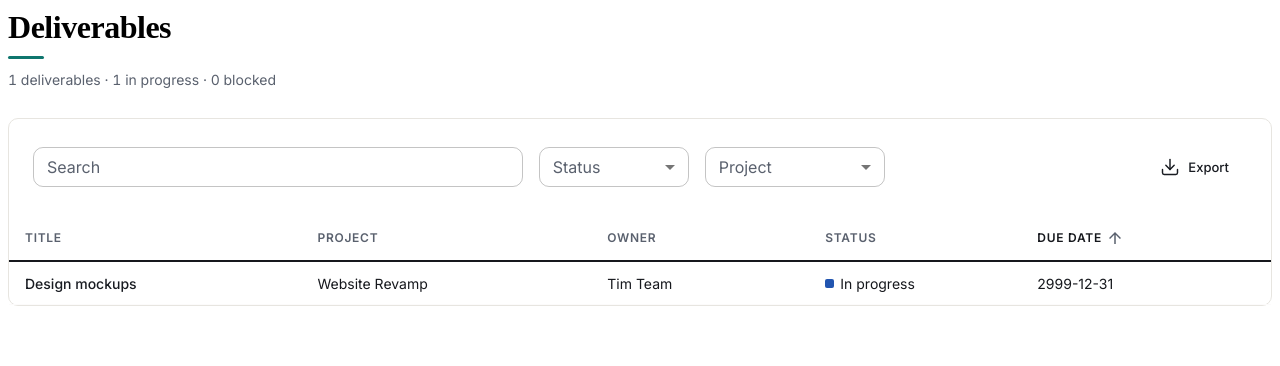
Test: Deliverables page › filters › keeps the filter toolbar reachable when a filter matches nothing
Expected: the link "Design mockups" is shown, [25,275,137,292]
Type "zzz" into the field labelled "Search" at point(278, 167), box [33,147,523,187]
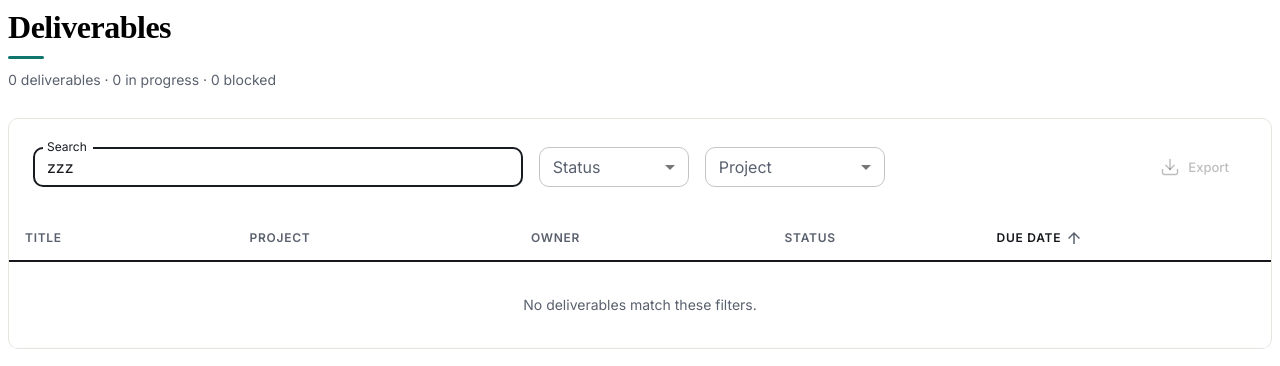
Now the text "No deliverables match these filters." is shown, box [9,261,1271,348]
